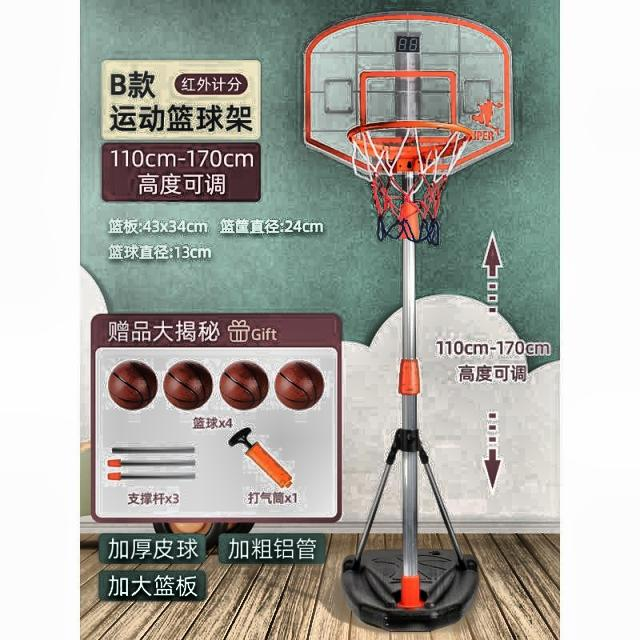board: (273, 360, 325, 411), (218, 359, 269, 411), (108, 359, 157, 410), (163, 361, 212, 410)
rim: (347, 121, 471, 244)
